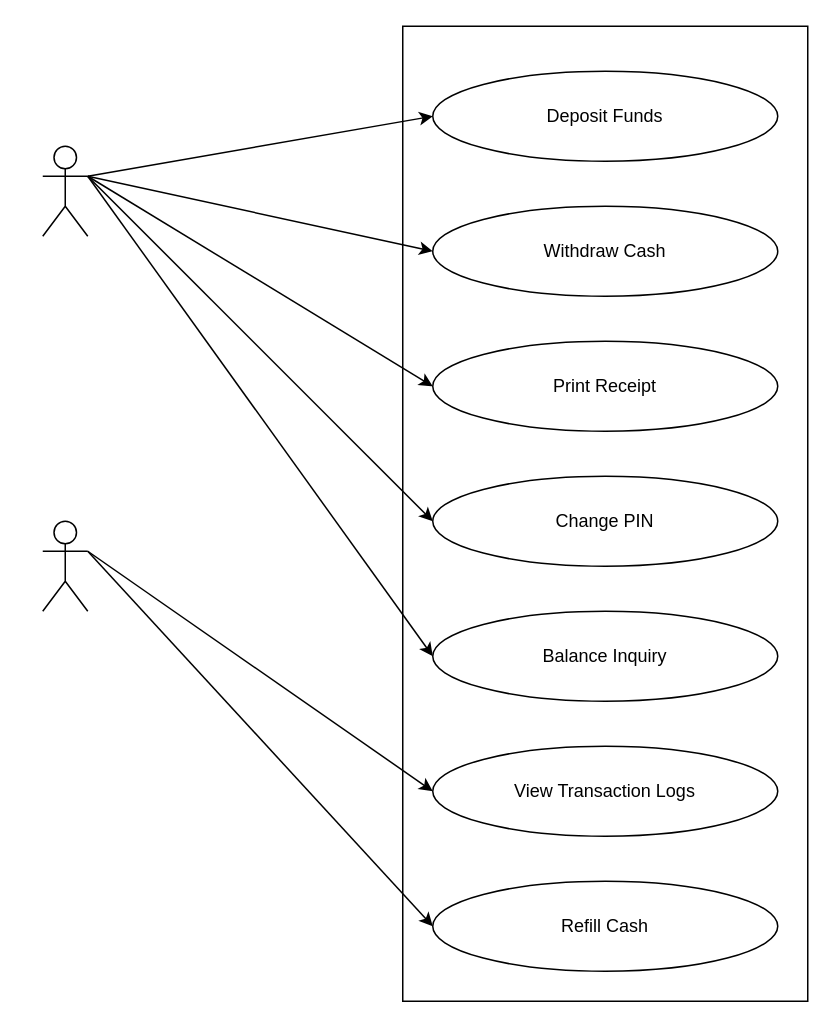
Image size: 834x1028. Some labels were removed from this diagram. The shapes that lost their labels are listed below. From the top down, each one's box as (x1, y1, x2, y2) in pixels, then its label:
(41, 145, 88, 236): Customer
(41, 520, 88, 611): Admin
